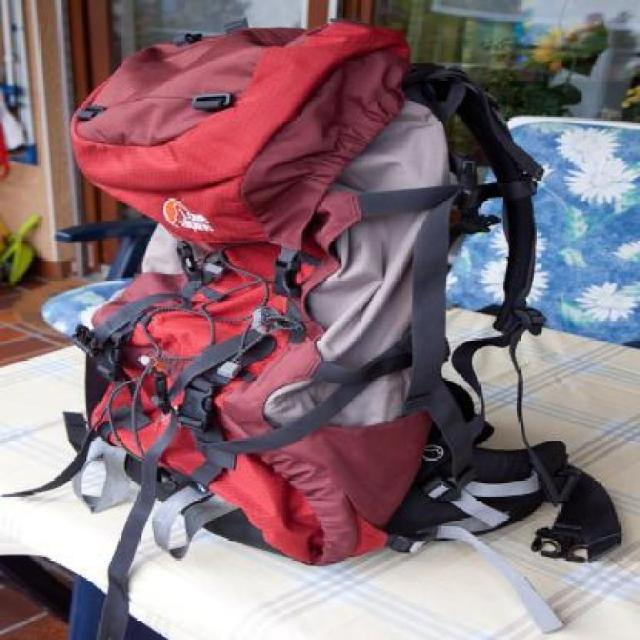backpack: (43, 11, 635, 584)
